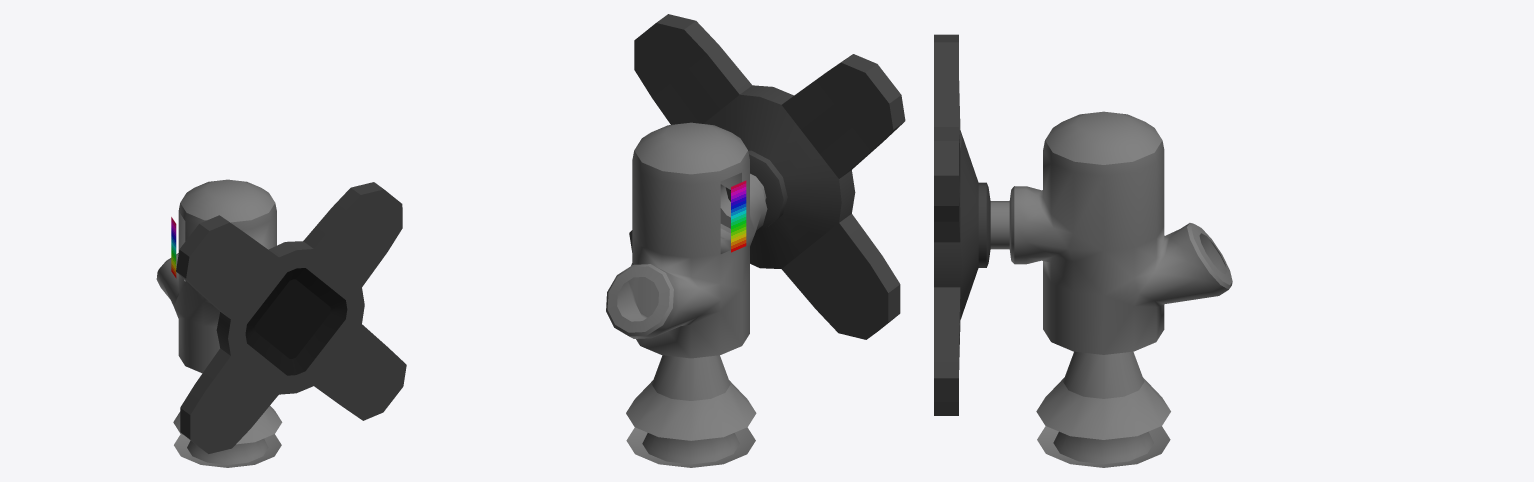
File: Leg_PaintGun_1X1_on.fbx
The picture shows the model from 3 angles, left to right: view 1: azimuth 30°, elevation 25°; view 2: azimuth 150°, elevation 25°; view 3: azimuth 270°, elevation 25°; orthographic projection. The views are drawn at different scales.
Visible parts, largest first — view 1: Box001; view 2: Box001; view 3: Box001.
Part boxes in pixels (box(x1,y1,x2,y2)): Box001: box(156, 179, 406, 467); Box001: box(606, 14, 905, 467); Box001: box(934, 34, 1232, 467).
Size of the model in its own units: 0.9552 by 1.4 by 1.78.
